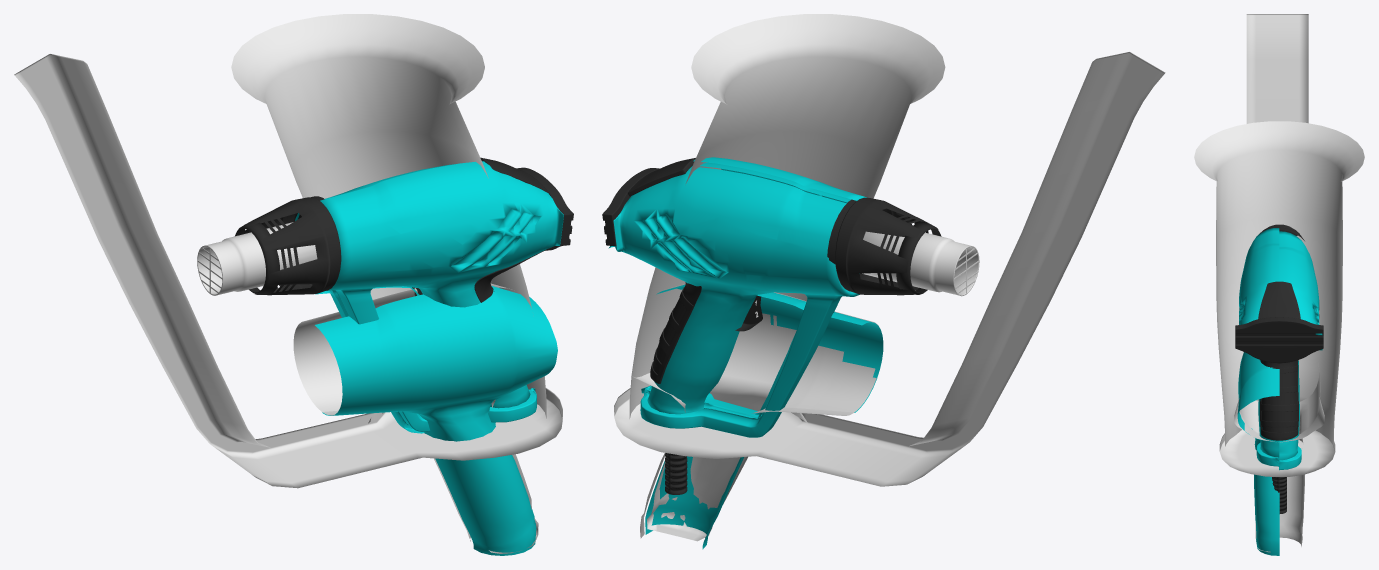
Rendered from HEAT GUN .glb.
3 renders of one model, left to right at view 1: azimuth 30°, elevation 25°; view 2: azimuth 150°, elevation 25°; view 3: azimuth 270°, elevation 25°, orthographic. The views are drawn at different scales.
Parts seen in each view (by area): view 1: Plane, Circle.002, MAIN BODY.001, FRONT COVER BLACK, ROUND PIPE FRONT, Circle.006, STAND SIDE, MAIN BODY; view 2: Plane, MAIN BODY, Circle.004, FRONT COVER BLACK, Circle.002, ROUND PIPE FRONT, STAND SIDE, MAIN BODY.001, Circle.006, CORD WIRE; view 3: Plane, STAND SIDE, Circle.002, MAIN BODY.001, MAIN BODY, Circle.006, Circle.004, CORD WIRE.
Part boxes in pixels (x1,y1,x2,y2): Plane: [14, 14, 562, 488]; Circle.002: [315, 286, 557, 555]; MAIN BODY.001: [320, 161, 563, 431]; FRONT COVER BLACK: [235, 196, 341, 295]; ROUND PIPE FRONT: [197, 222, 317, 295]; Circle.006: [293, 283, 511, 541]; STAND SIDE: [474, 157, 573, 302]; MAIN BODY: [295, 164, 455, 433]; Plane: [614, 14, 1165, 486]; MAIN BODY: [608, 167, 859, 437]; Circle.004: [647, 284, 877, 541]; FRONT COVER BLACK: [827, 197, 941, 295]; Circle.002: [645, 284, 883, 549]; ROUND PIPE FRONT: [862, 231, 979, 296]; STAND SIDE: [602, 158, 701, 383]; MAIN BODY.001: [641, 157, 866, 419]; Circle.006: [632, 373, 853, 538]; CORD WIRE: [665, 453, 687, 494]; Plane: [1194, 14, 1364, 476]; STAND SIDE: [1235, 281, 1323, 440]; Circle.002: [1237, 352, 1279, 555]; MAIN BODY.001: [1239, 228, 1279, 466]; MAIN BODY: [1279, 231, 1322, 470]; Circle.006: [1279, 364, 1324, 546]; Circle.004: [1234, 398, 1274, 552]; CORD WIRE: [1272, 477, 1286, 513].
Size of the model in its own units: 4.15 by 4.49 by 1.77.
